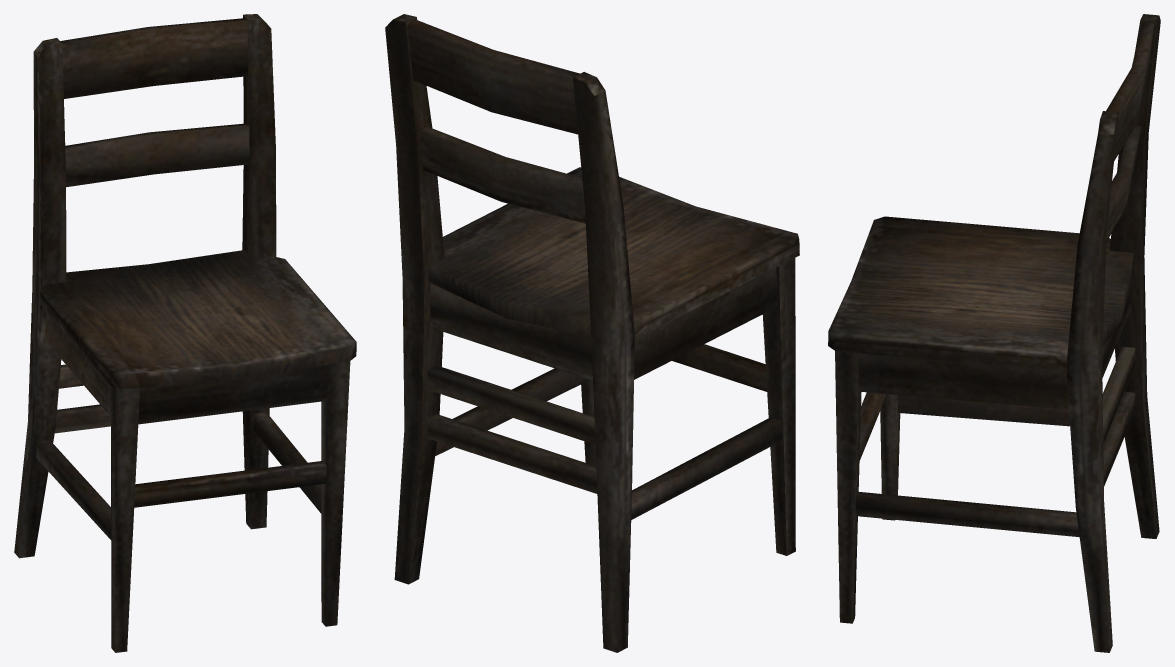
Rendered from chair.obj.
The picture shows the model from 3 angles, left to right: view 1: azimuth 30°, elevation 25°; view 2: azimuth 150°, elevation 25°; view 3: azimuth 270°, elevation 25°; orthographic projection. The views are drawn at different scales.
Visible parts, largest first — view 1: Mesh_0198.rip; view 2: Mesh_0198.rip; view 3: Mesh_0198.rip.
Part boxes in pixels (<box>): Mesh_0198.rip: <box>14,14,356,652</box>; Mesh_0198.rip: <box>385,14,799,652</box>; Mesh_0198.rip: <box>828,14,1160,652</box>.
Size of the model in its own units: 19.59 by 36.39 by 20.38.
1 material, 1 textured.
